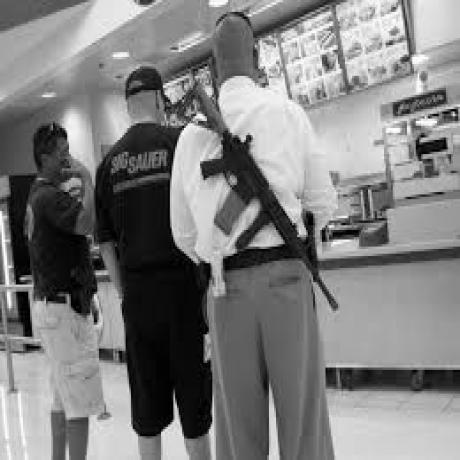Guns: (176, 78, 341, 319)
